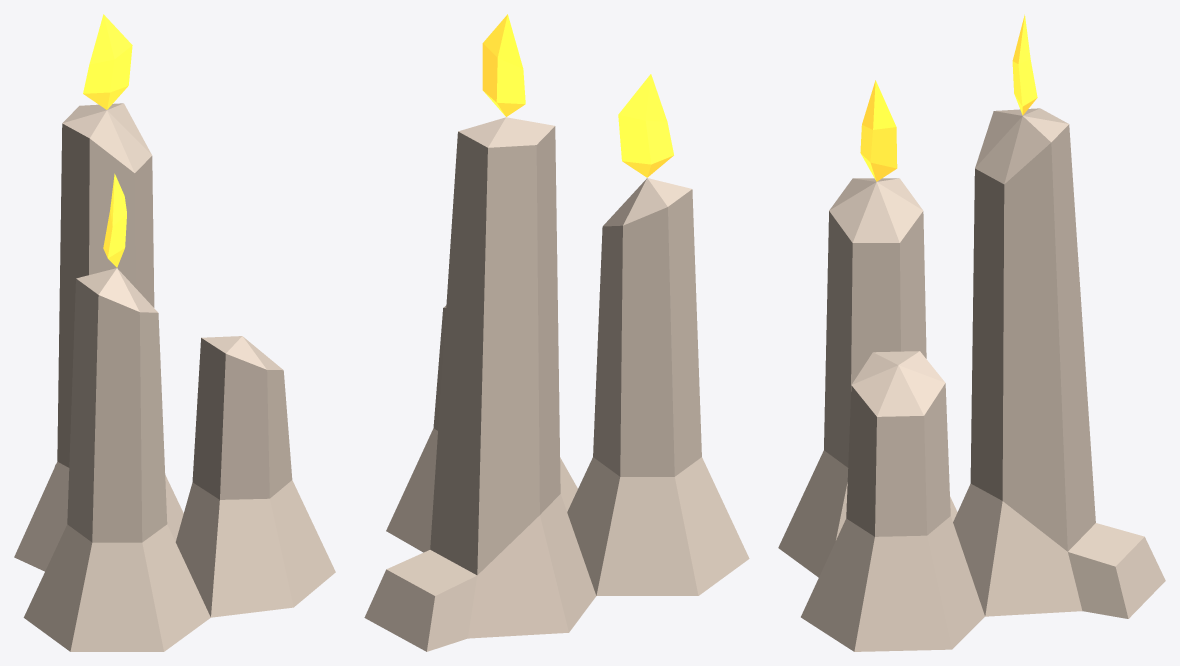
File: candles.glb
The picture shows the model from 3 angles, left to right: view 1: azimuth 30°, elevation 25°; view 2: azimuth 150°, elevation 25°; view 3: azimuth 270°, elevation 25°; orthographic projection. The views are drawn at different scales.
Parts seen in each view (by area): view 1: candles; view 2: candles; view 3: candles.
Part boxes in pixels (bbox=[...]): candles: bbox=[14, 14, 335, 651]; candles: bbox=[364, 14, 749, 651]; candles: bbox=[778, 14, 1165, 651].
Bounding box in the file's own units: 0.3206 × 0.5917 × 0.3691.
Materials: 1 (1 with a texture image).
